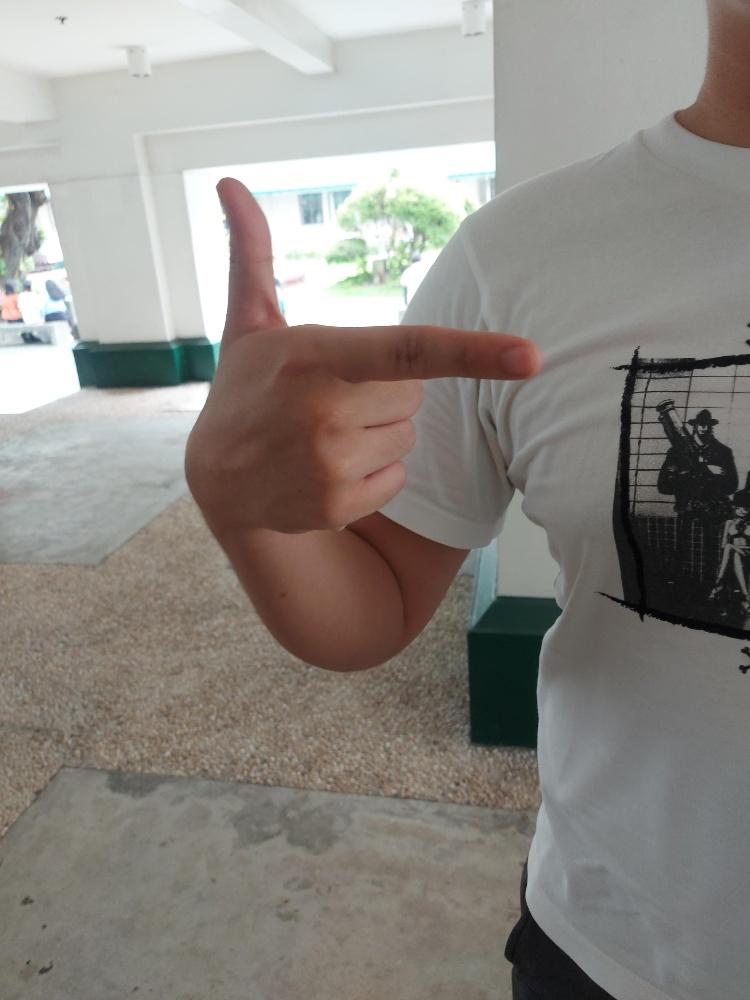g: (176, 165, 550, 535)
